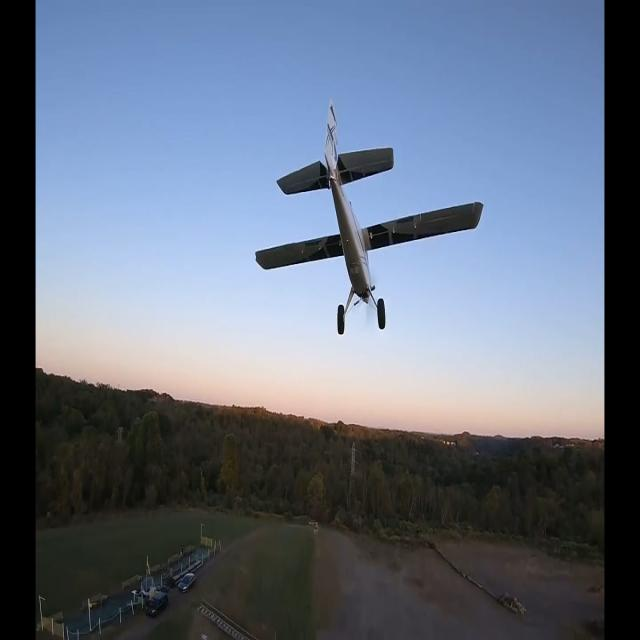iha: (255, 95, 484, 336)
